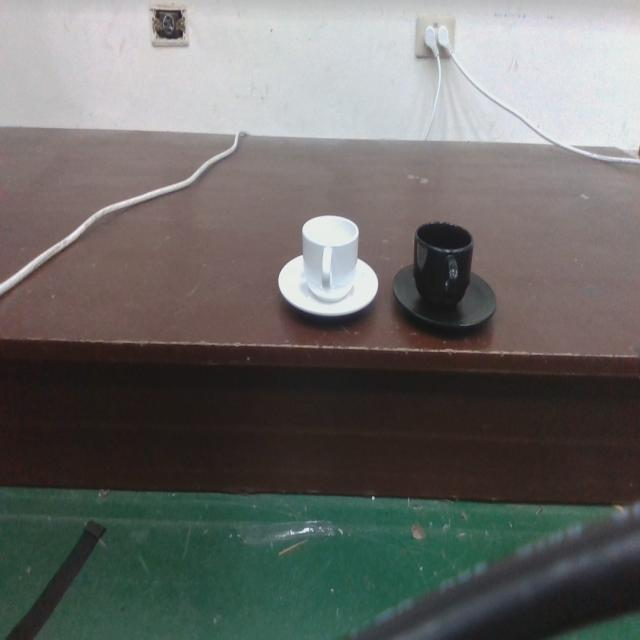black: (391, 217, 502, 337)
white: (276, 212, 380, 324)
